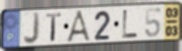2: (92, 8, 113, 43)
5: (144, 7, 161, 39)
A: (65, 9, 93, 43)
J: (22, 11, 42, 46)
L: (121, 9, 139, 40)
T: (45, 12, 63, 43)
